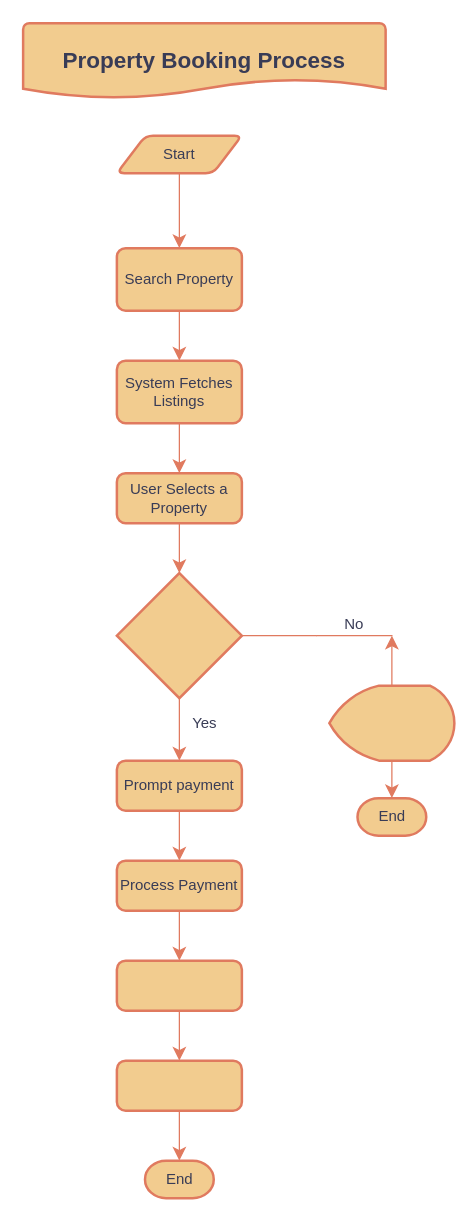
Image size: 476x1220. Some labels were removed from this diagram. The box of each missing label's shape, as (x1, y1, x2, y2) in pixels:
Create booking record: (115, 959, 242, 1011)
Display "Not Available": (328, 684, 455, 761)
Is Availably?: (115, 571, 242, 699)
Send confirmation: (115, 1059, 242, 1111)
